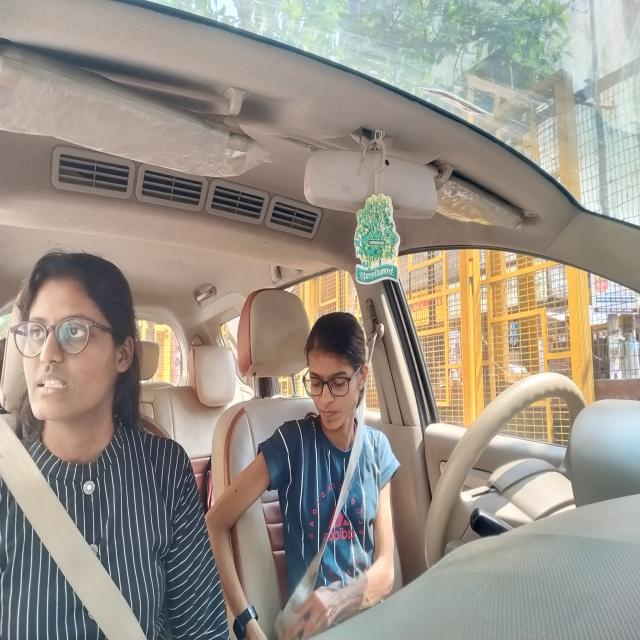drowsy: (284, 298, 373, 462)
person: (10, 229, 140, 454)
